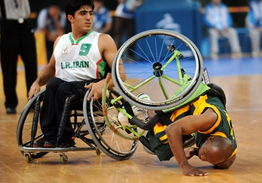fall: (133, 70, 238, 176)
